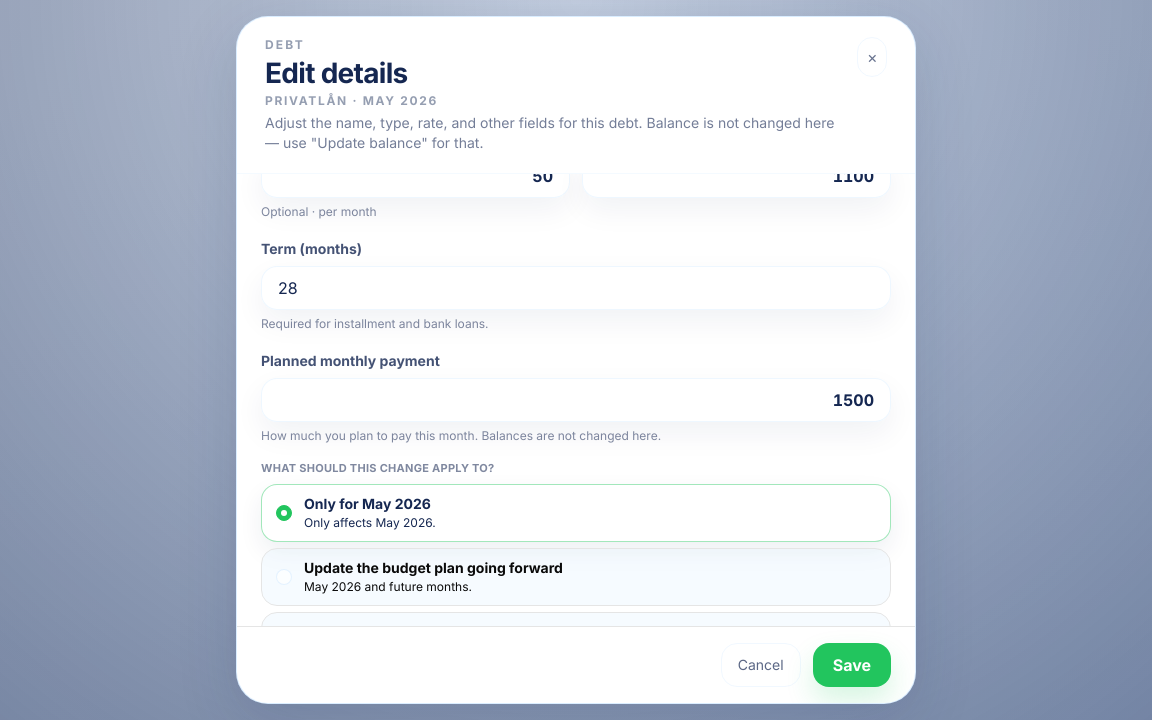
DebtDetailsModal › shows the amber shortfall advisory when the edited payment cannot cover interest + fee
The width and height of the screenshot is (1152, 720).
(page scrolled)
Replace the text in the field labelled "Planned monthly payment" with "800" at [576, 400], box left=261, top=378, right=891, bottom=422
(page scrolled)
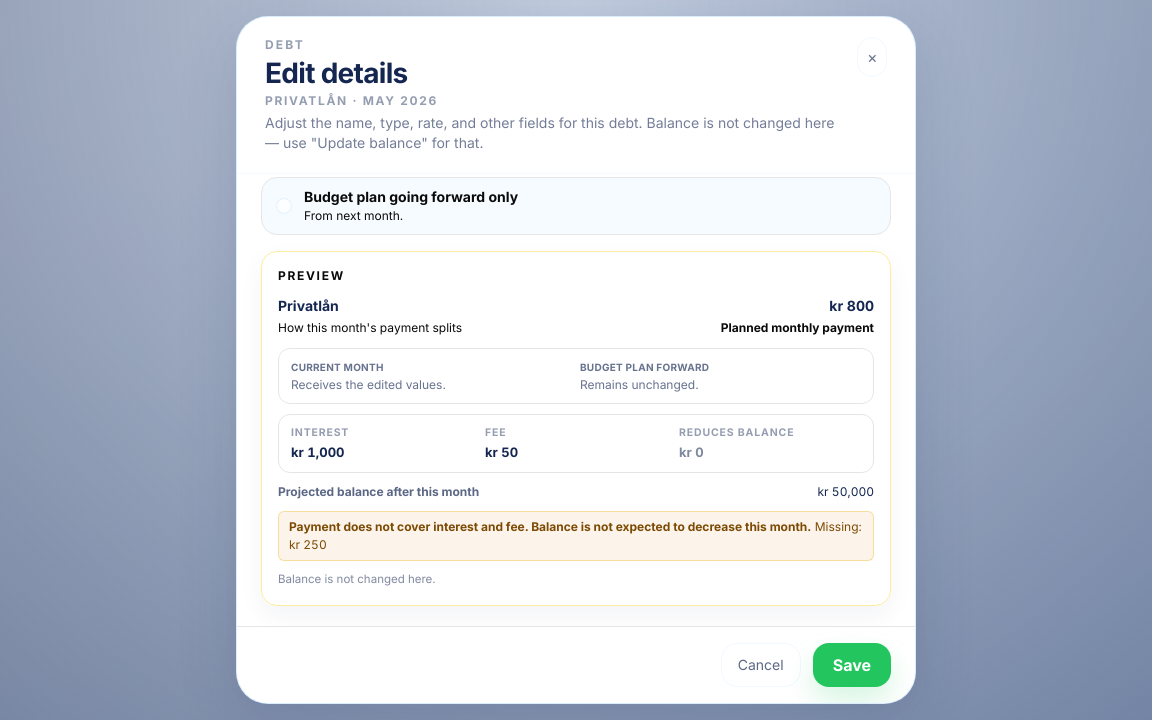
Expected: the element with test id "debt-details-preview-shortfall" shows "does not cover interest and fee", left=289, top=519, right=811, bottom=534
Expected: the element with test id "debt-details-preview-shortfall" shows "250", left=289, top=519, right=862, bottom=552
